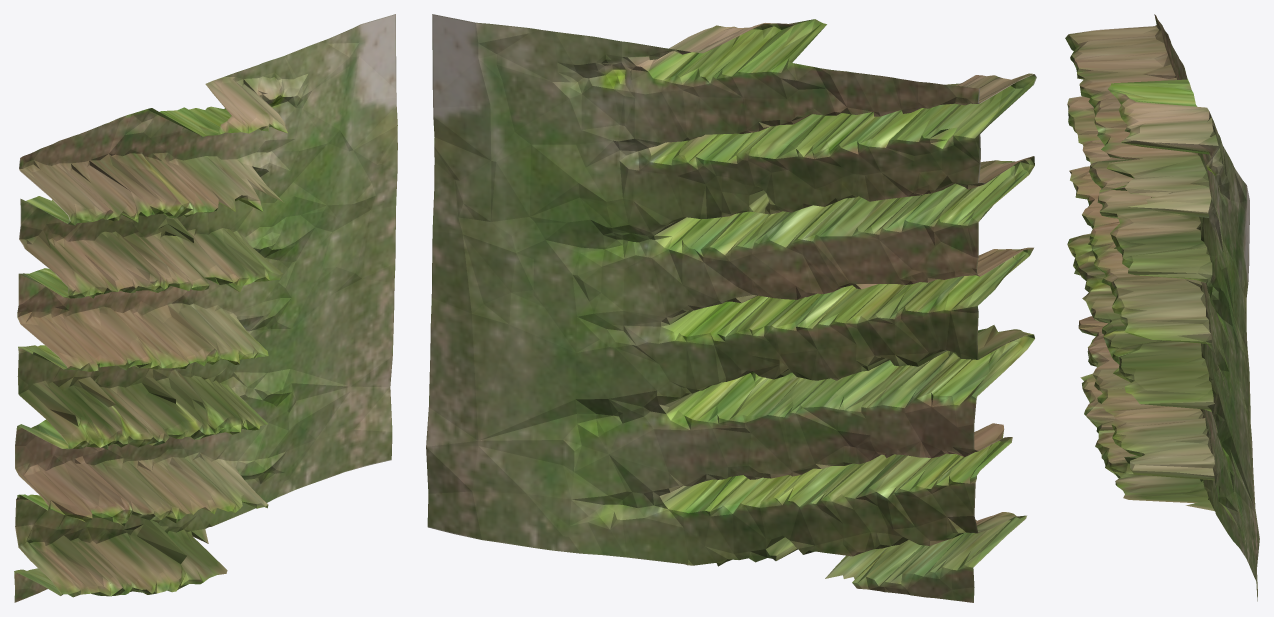
Rendered from map_260_10.obj.
3 views of the same model, side by side, from view 1: azimuth 30°, elevation 25°; view 2: azimuth 150°, elevation 25°; view 3: azimuth 270°, elevation 25° (orthographic). The views are drawn at different scales.
Parts seen in each view (by area): view 1: grp1; view 2: grp1; view 3: grp1.
Part boxes in pixels (x1=…): grp1: x1=14, y1=14, x2=397, y2=602; grp1: x1=426, y1=14, x2=1036, y2=602; grp1: x1=1065, y1=14, x2=1259, y2=601.
Bounding box in the file's own units: 10 × 10 × 4.4.
Materials: 1 (1 with a texture image).
